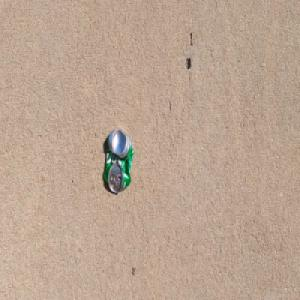SodaCan: (103, 127, 134, 194)
